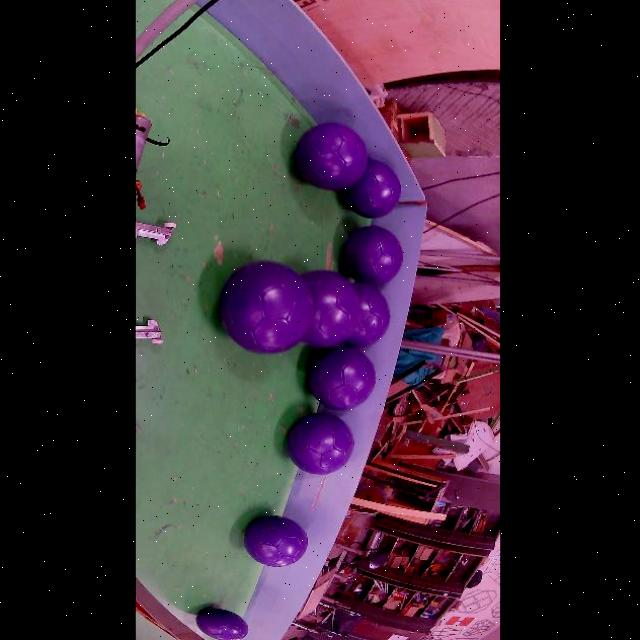P: (218, 260, 312, 354), (294, 123, 366, 190), (302, 270, 359, 347), (308, 346, 375, 411), (287, 413, 352, 475), (342, 226, 402, 285), (344, 160, 401, 218), (244, 516, 307, 568), (345, 283, 389, 347), (195, 608, 247, 640)
